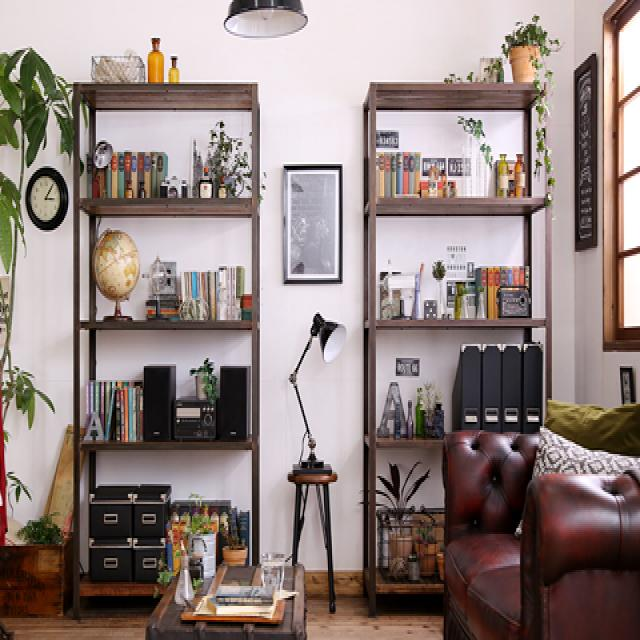vintage shelf: (362, 77, 556, 617), (69, 78, 261, 620)
vintage sofa: (430, 397, 640, 640)
